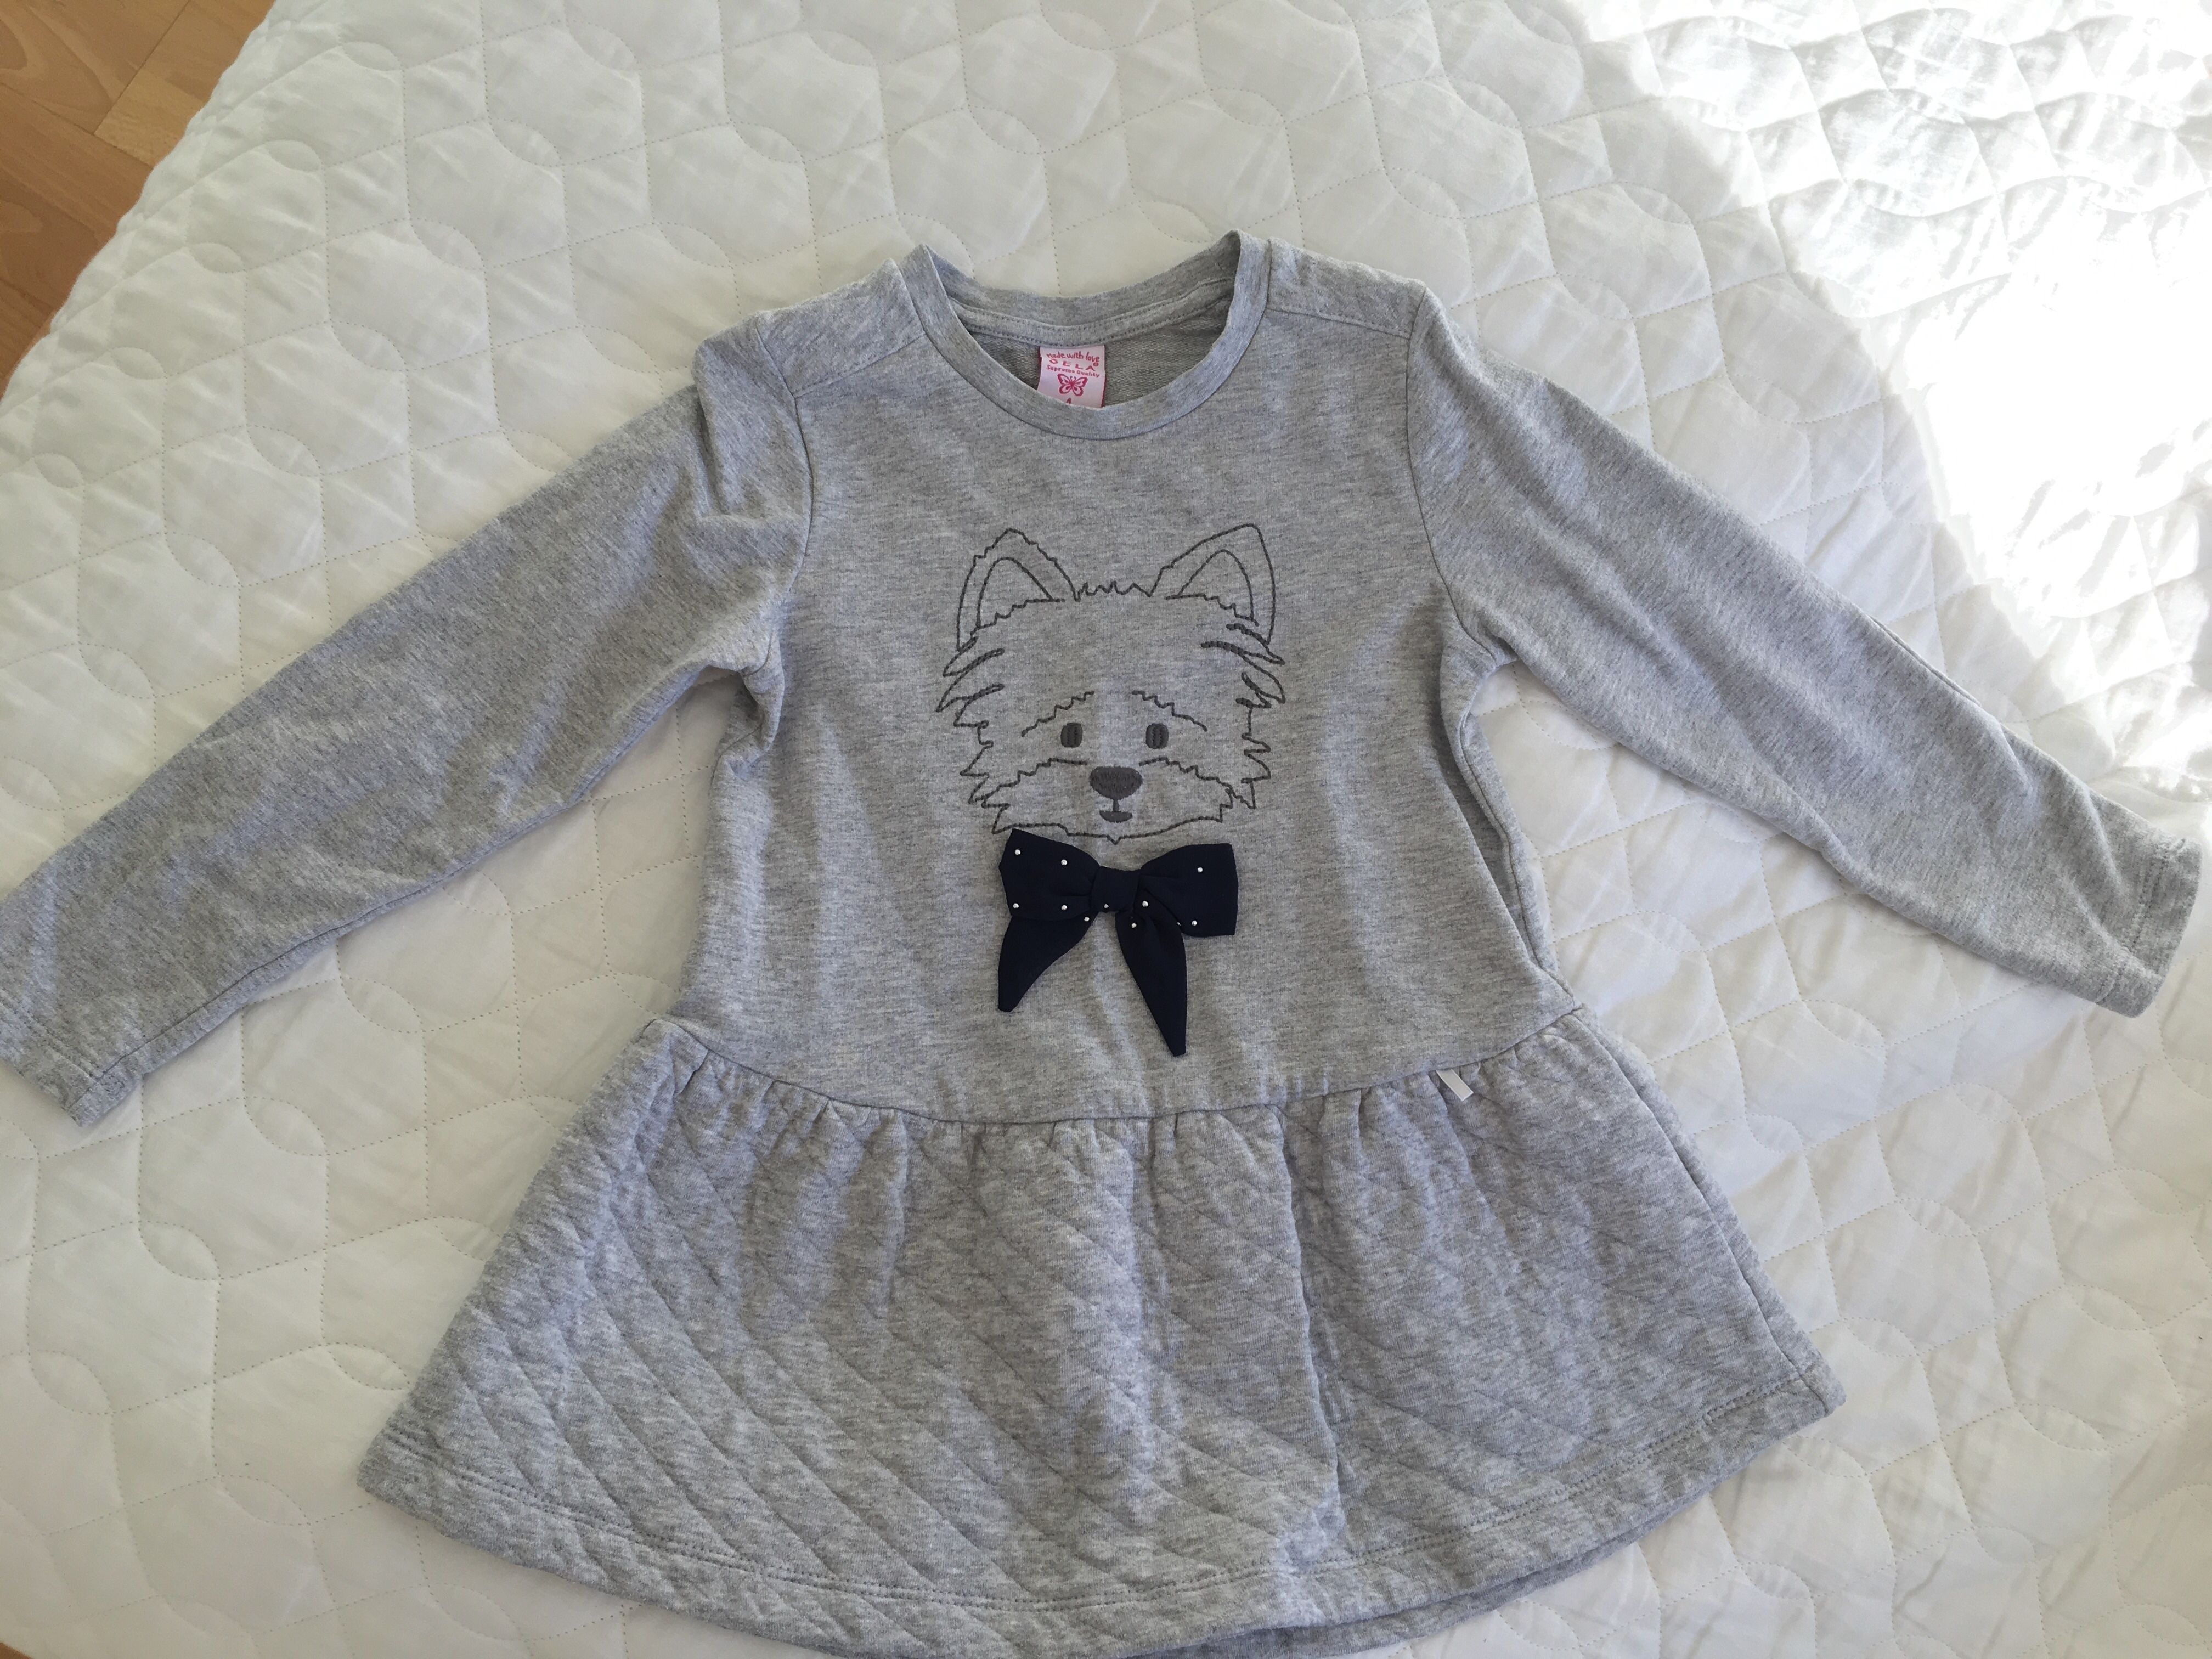clothes: (59, 234, 2195, 1628)
